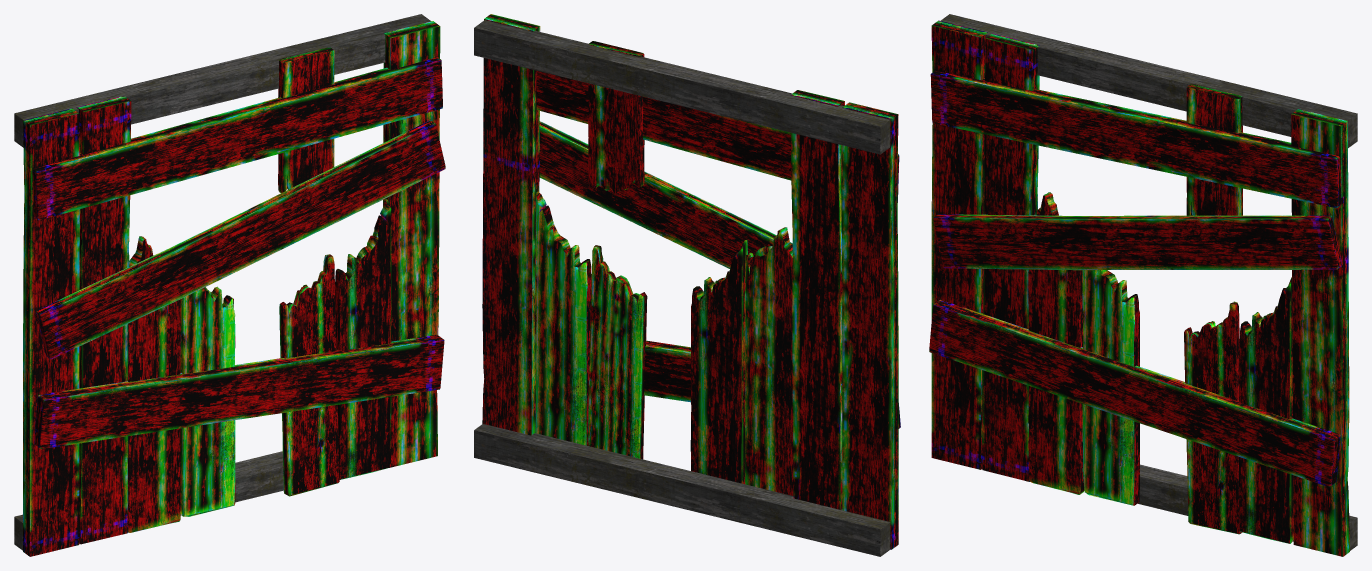
File: SM_PlankWall_Wall5.fbx
3 renders of one model, left to right at view 1: azimuth 30°, elevation 25°; view 2: azimuth 150°, elevation 25°; view 3: azimuth 330°, elevation 25°, orthographic.
Parts seen in each view (by area): view 1: SM_PlankWall_Wall5_LOD0; view 2: SM_PlankWall_Wall5_LOD0; view 3: SM_PlankWall_Wall5_LOD0.
Part boxes in pixels (box(x1,y1,x2,y2)): SM_PlankWall_Wall5_LOD0: box(14, 14, 445, 556); SM_PlankWall_Wall5_LOD0: box(474, 14, 900, 556); SM_PlankWall_Wall5_LOD0: box(929, 14, 1357, 556).
Size of the model in its own units: 300 by 29.88 by 303.
